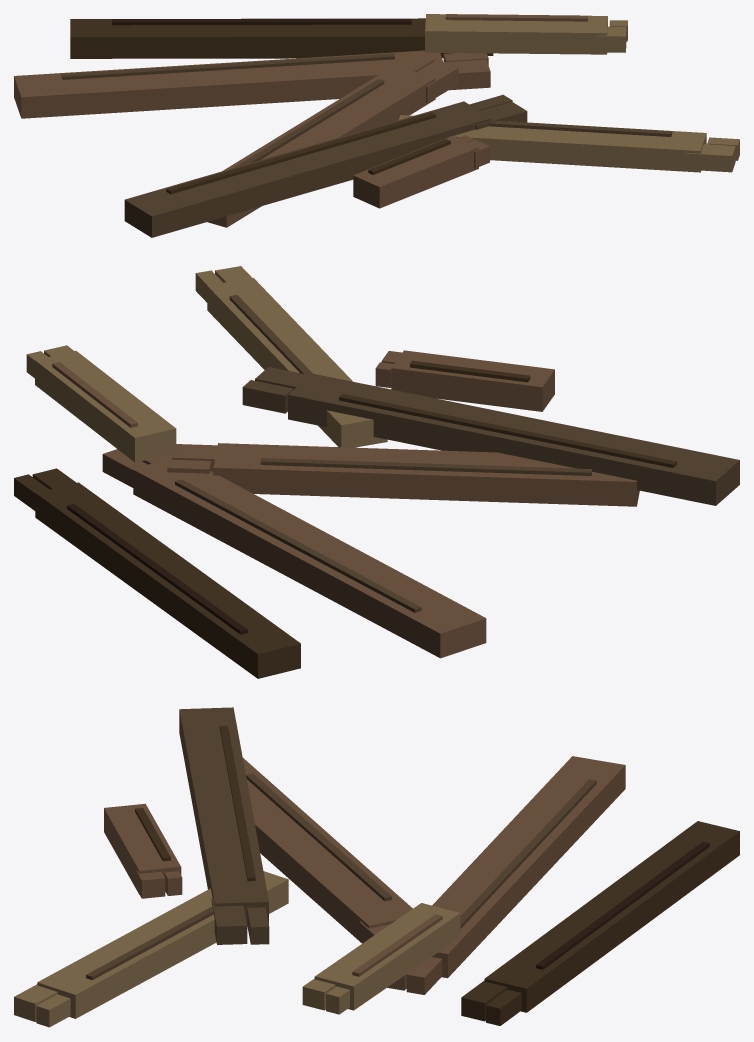
Rendered from CMU3DDecorFloorScrapwoodEast.glb.
The picture shows the model from 3 angles, top to bottom: view 1: azimuth 30°, elevation 25°; view 2: azimuth 150°, elevation 25°; view 3: azimuth 270°, elevation 25°; orthographic projection. The views are drawn at different scales.
Visible parts, largest first — view 1: plank 2 body, plank 5 body, plank 1 body, plank 4 body, plank 7 body, plank 3 body, plank 6 body, plank 2 long grain, plank 5 long grain, plank 1 long grain, plank 3 long grain, plank 4 long grain (+7 smaller); view 2: plank 2 body, plank 5 body, plank 3 body, plank 1 body, plank 4 body, plank 7 body, plank 6 body, plank 5 long grain, plank 3 long grain, plank 2 long grain, plank 1 long grain, plank 5 short fracture tooth (+7 smaller); view 3: plank 1 body, plank 2 body, plank 5 body, plank 3 body, plank 4 body, plank 7 body, plank 6 body, plank 1 long grain, plank 2 long grain, plank 3 long grain, plank 5 long grain, plank 5 splintered end (+12 smaller).
Part boxes in pixels (x1,y1,x2,y2): plank 2 body: (14,50,445,118); plank 5 body: (124,101,491,237); plank 1 body: (70,18,443,58); plank 4 body: (399,115,706,172); plank 7 body: (425,14,607,54); plank 3 body: (207,66,435,227); plank 6 body: (353,135,478,208); plank 2 long grain: (61,53,394,79); plank 5 long grain: (166,112,435,194); plank 1 long grain: (112,18,411,25); plank 3 long grain: (234,79,384,167); plank 4 long grain: (489,121,672,136); plank 2 body: (133,457,486,658); plank 5 body: (288,373,739,505); plank 3 body: (213,443,639,506); plank 1 body: (35,482,300,678); plank 4 body: (207,277,387,447); plank 7 body: (35,350,176,462); plank 6 body: (391,350,554,411); plank 5 long grain: (339,394,676,467); plank 3 long grain: (260,458,591,475); plank 2 long grain: (175,479,421,612); plank 1 long grain: (67,504,247,634); plank 5 short fracture tooth: (242,380,293,413); plank 1 body: (484,821,739,1012); plank 2 body: (432,756,625,978); plank 5 body: (179,707,268,924); plank 3 body: (243,758,412,943); plank 4 body: (37,871,288,1018); plank 7 body: (314,903,460,1010); plank 6 body: (104,803,181,894); plank 1 long grain: (536,841,709,969); plank 2 long grain: (460,779,596,928); plank 3 long grain: (246,773,391,901); plank 5 long grain: (219,725,255,881); plank 5 splintered end: (211,897,247,944).
Bounding box in the file's own units: 0.7795 × 0.087 × 0.7935.
